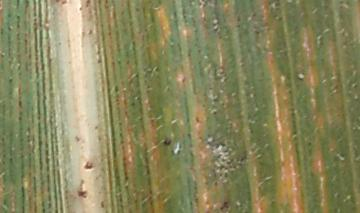tarspot: (77, 178, 87, 202), (219, 199, 230, 213), (95, 41, 101, 65), (83, 161, 94, 171), (179, 74, 188, 85), (162, 138, 173, 146), (272, 1, 283, 9), (83, 1, 93, 9), (6, 77, 15, 85), (73, 134, 80, 142), (194, 115, 201, 123), (252, 28, 260, 35), (235, 14, 241, 23), (233, 23, 242, 29), (54, 1, 67, 5), (99, 200, 106, 207), (86, 29, 93, 36), (112, 84, 119, 91), (211, 109, 217, 117), (250, 12, 258, 18), (306, 140, 312, 147), (96, 134, 101, 142), (103, 1, 111, 6), (94, 123, 99, 130), (267, 1, 273, 6)
